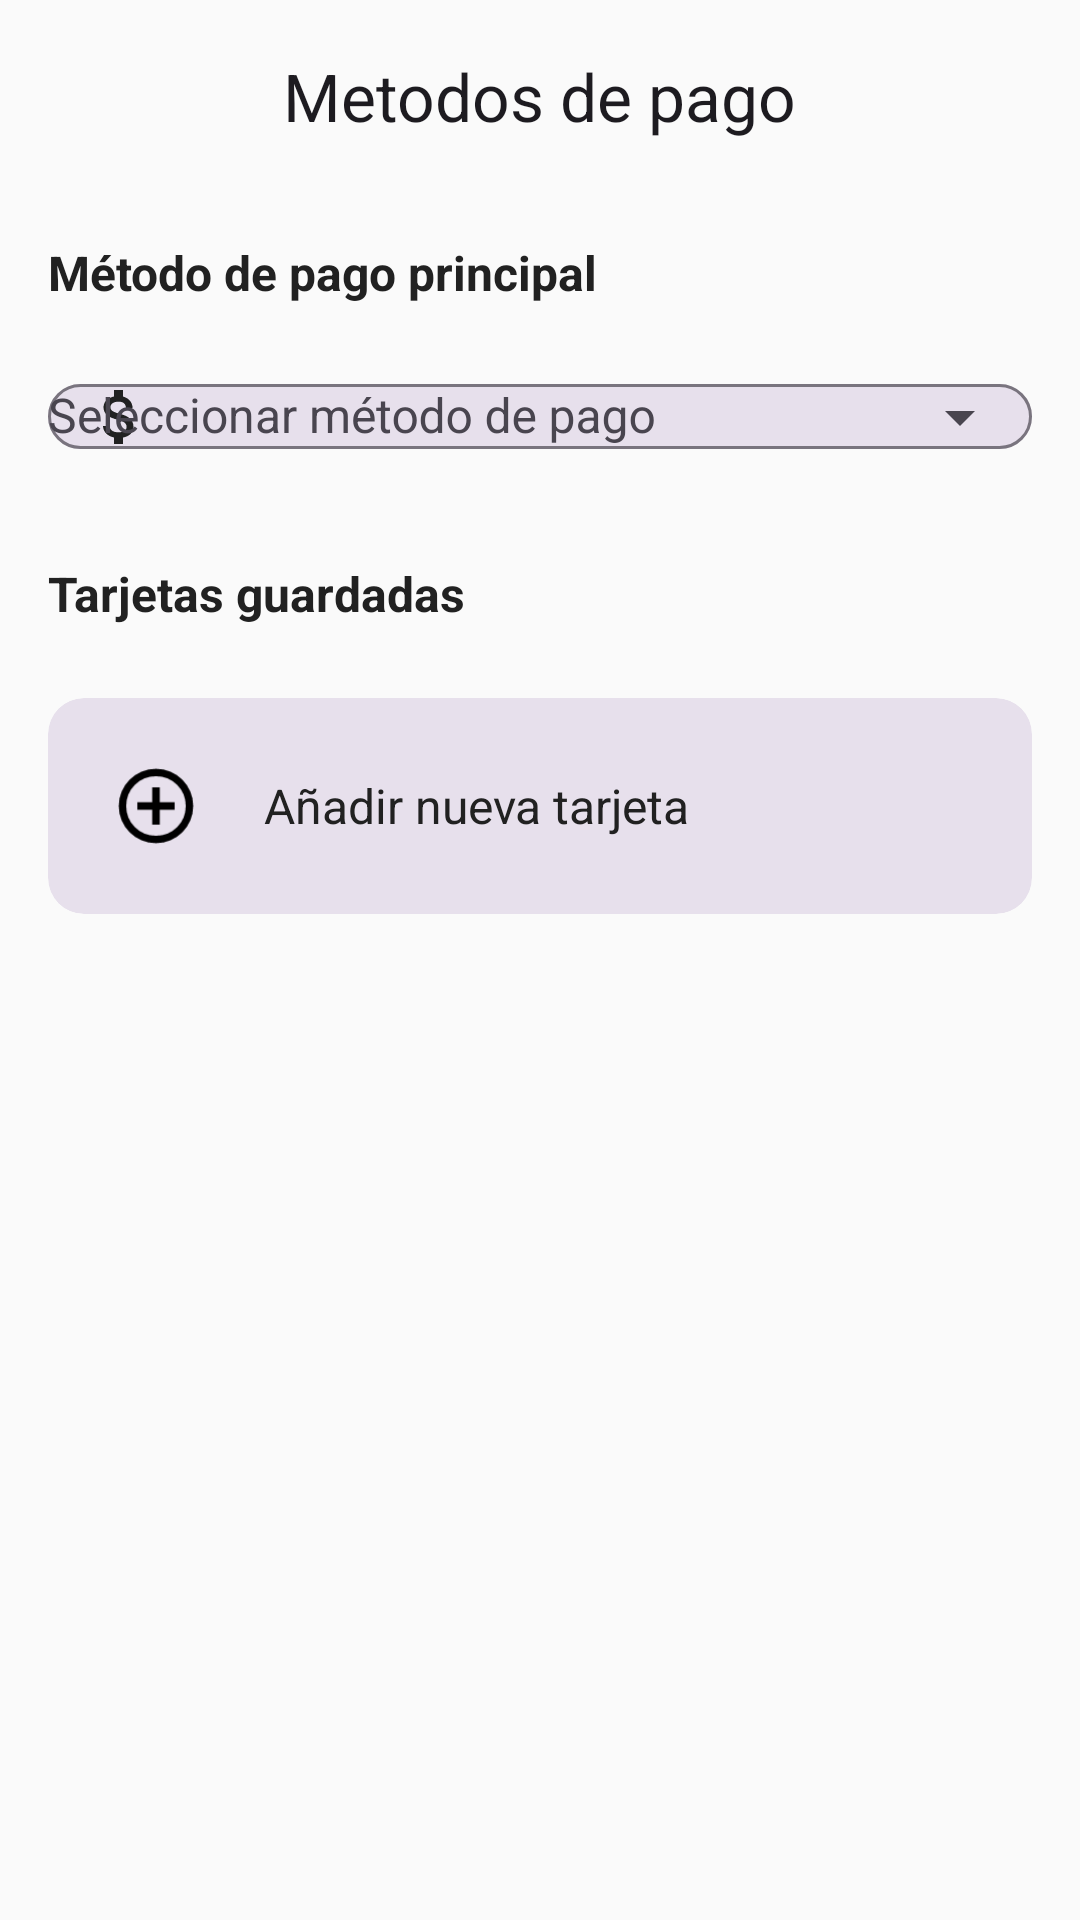

Locate icon controls on the screen. Image size 1080w x 1920h, boxes as (x1,y1,x2,y2).
addcircle: (118,768,194,844)
